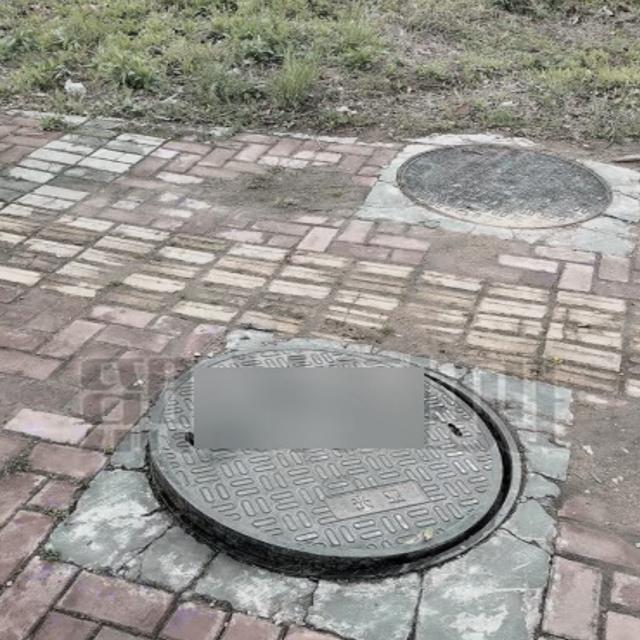good: (397, 144, 613, 227)
uncovered: (142, 345, 523, 581)
